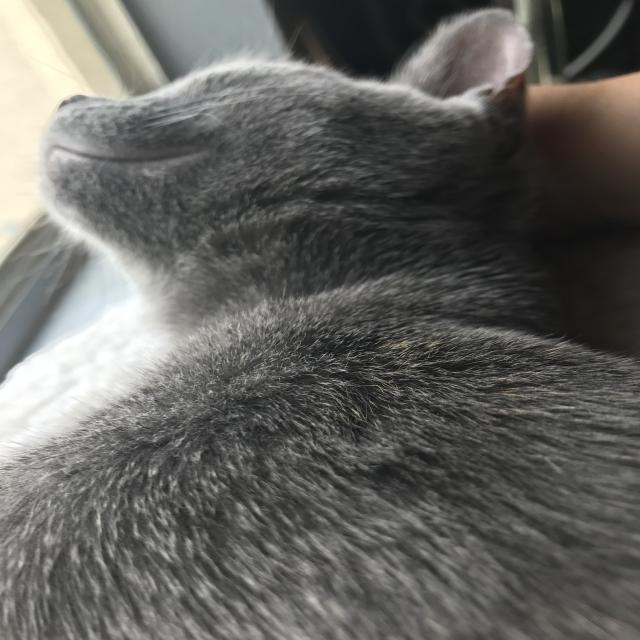Healthy skin: (288, 342, 543, 576), (273, 123, 427, 274), (99, 488, 250, 610), (138, 166, 252, 260), (163, 398, 258, 464)
